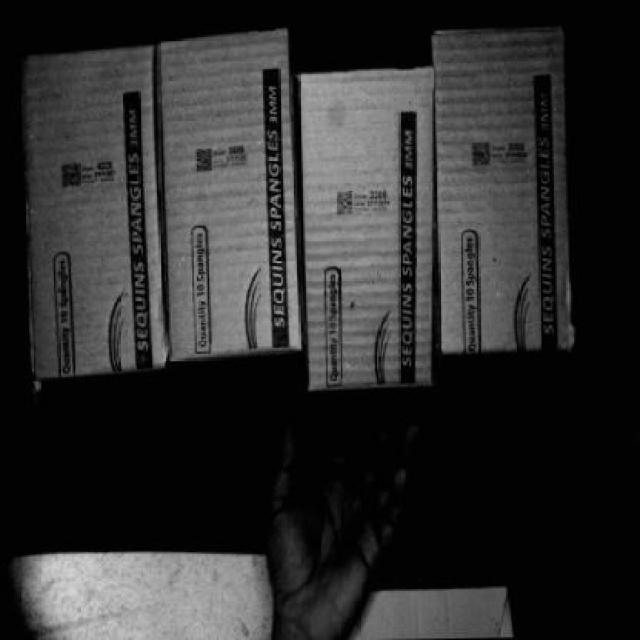cardboxes: (154, 32, 306, 362), (436, 19, 576, 348), (26, 43, 162, 365), (302, 76, 438, 384)
